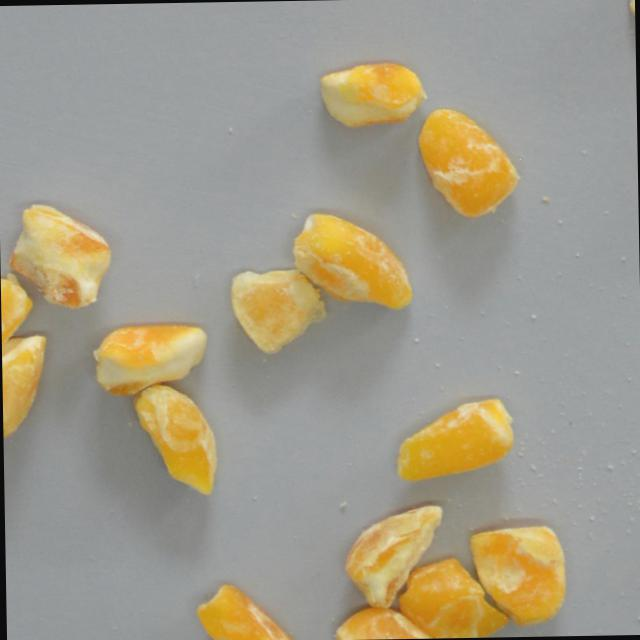dañado: (284, 207, 419, 317), (0, 196, 118, 312), (387, 390, 519, 487), (416, 104, 523, 221), (340, 502, 446, 611), (464, 522, 568, 628), (132, 382, 220, 500), (396, 555, 510, 639), (87, 322, 208, 398), (311, 58, 433, 131), (0, 332, 54, 448), (192, 582, 298, 640), (329, 603, 450, 640), (0, 269, 38, 373)
pelicula: (227, 263, 331, 359)
